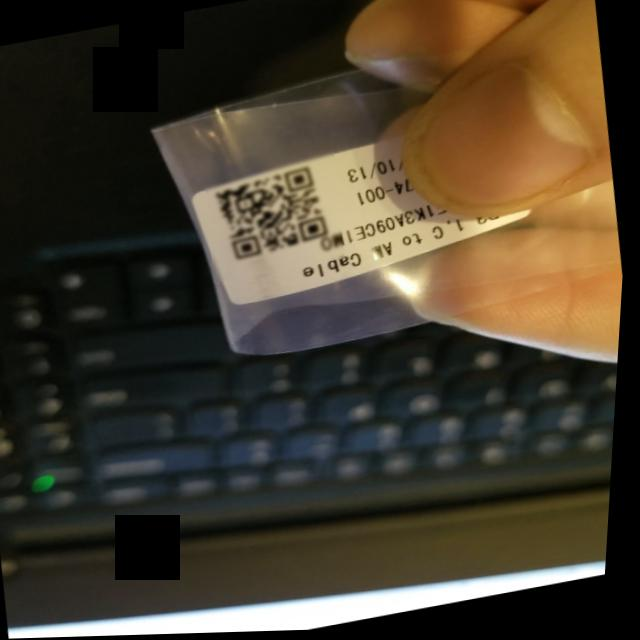QR_CODE: (200, 150, 353, 285)
